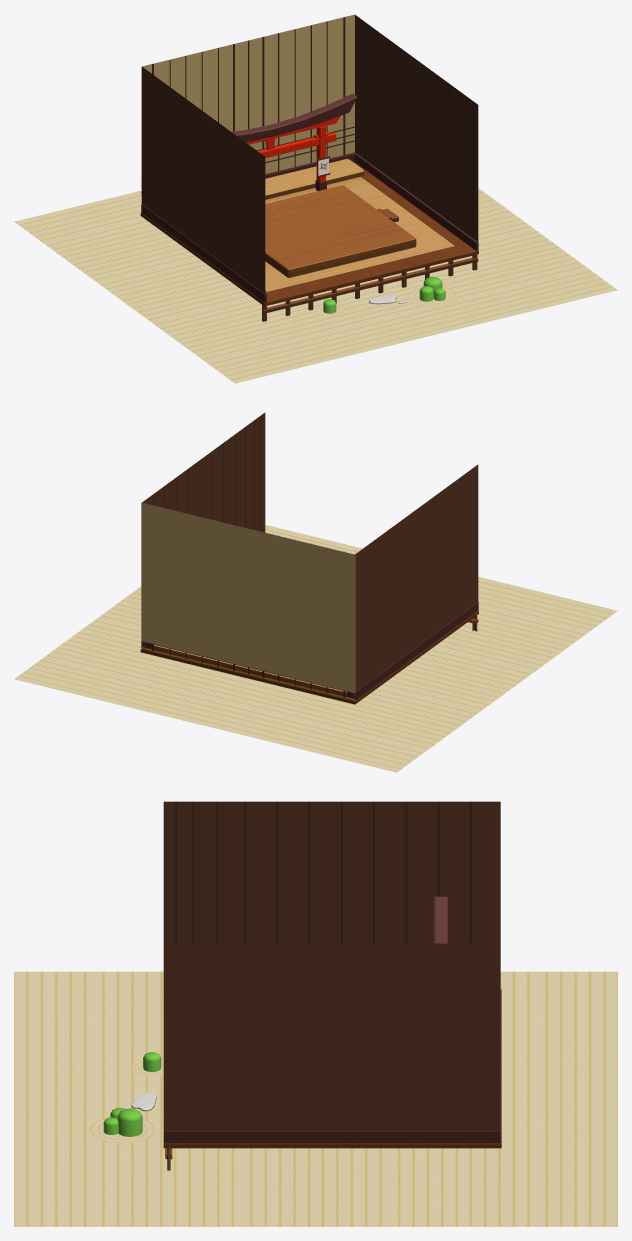
The model's file is map_theme01.fbx.
3 views of the same model, one above another, from view 1: azimuth 30°, elevation 25°; view 2: azimuth 150°, elevation 25°; view 3: azimuth 270°, elevation 25° (orthographic). The views are drawn at different scales.
Parts seen in each view (by area): view 1: Map_theme01; view 2: Map_theme01; view 3: Map_theme01.
Part boxes in pixels (x1=…): Map_theme01: x1=14, y1=14, x2=617, y2=383; Map_theme01: x1=14, y1=412, x2=617, y2=772; Map_theme01: x1=14, y1=801, x2=617, y2=1226.
Bounding box in the file's own units: 23.35 × 9.73 × 23.35.
